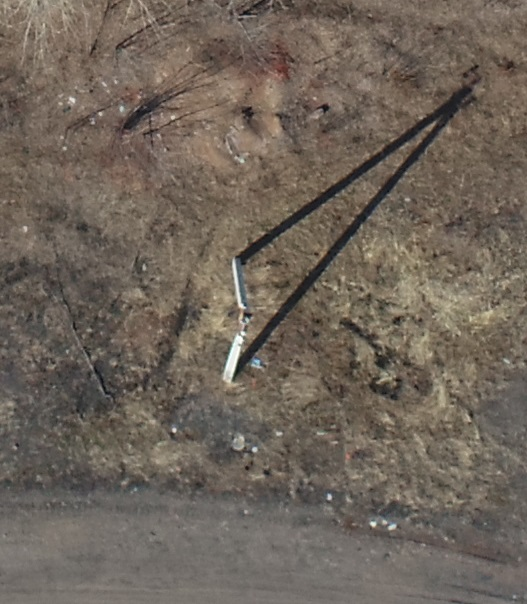opora: (218, 232, 324, 385)
